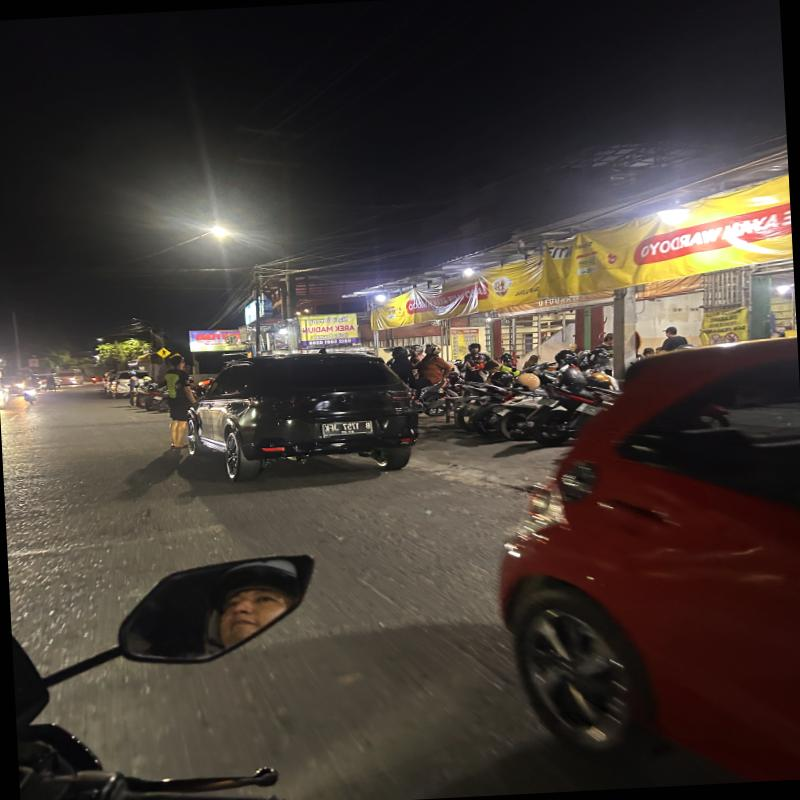license plate on a car: (318, 415, 380, 438)
